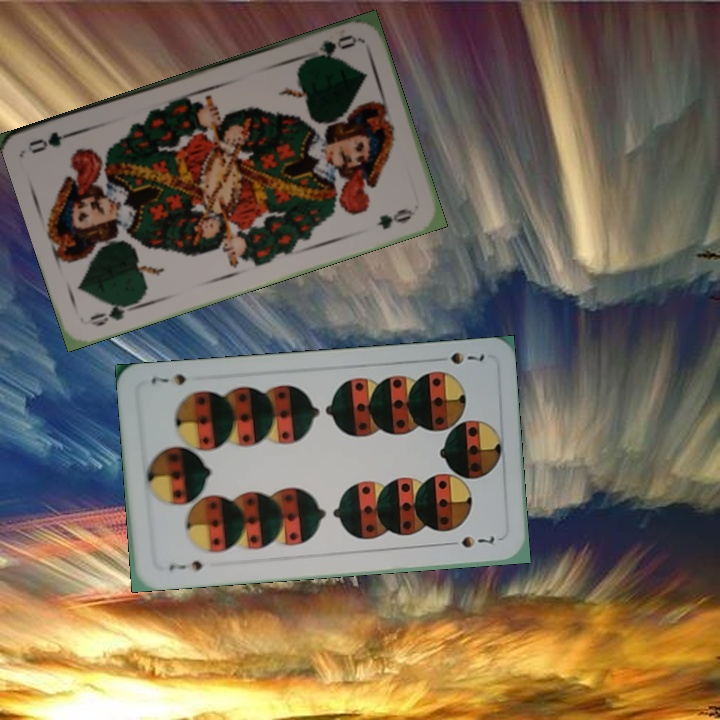GO: (303, 30, 359, 64), (84, 298, 142, 330)
S7: (430, 348, 487, 367), (165, 556, 206, 573)
